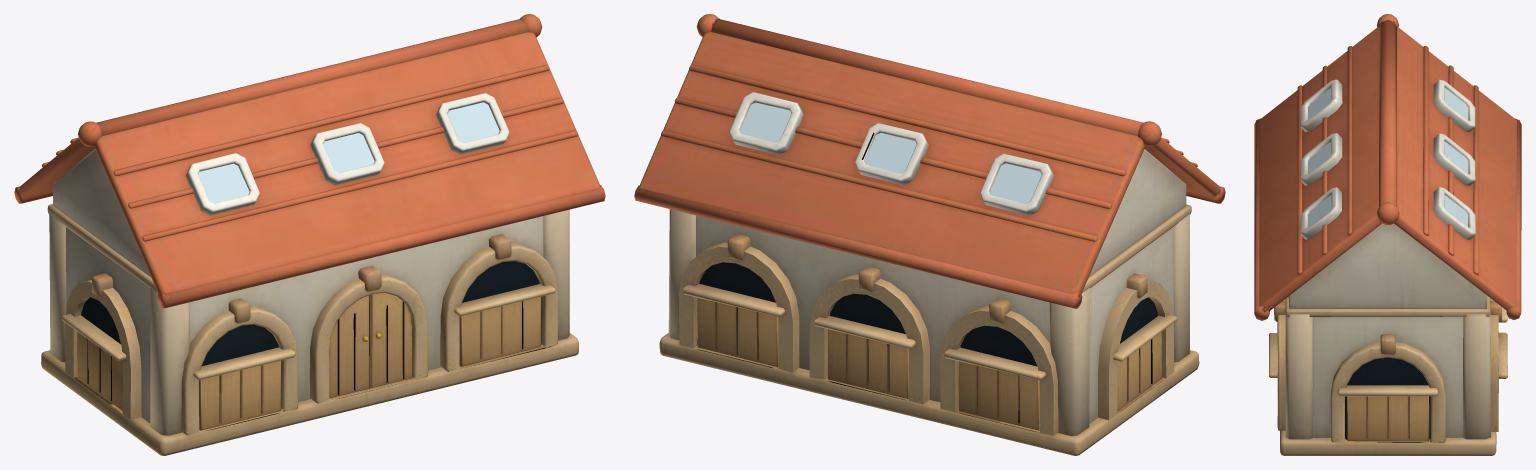
Rendered from market-hall.glb.
3 renders of one model, left to right at view 1: azimuth 30°, elevation 25°; view 2: azimuth 150°, elevation 25°; view 3: azimuth 270°, elevation 25°, orthographic. The views are drawn at different scales.
Parts seen in each view (by area): view 1: hall; view 2: hall; view 3: hall.
Part boxes in pixels (x1,y1,x2,y2): hall: [14, 14, 605, 455]; hall: [634, 14, 1225, 455]; hall: [1254, 14, 1521, 455].
Bounding box in the file's own units: 4.25 × 2.58 × 2.42.
Materials: 11 (10 with a texture image).
